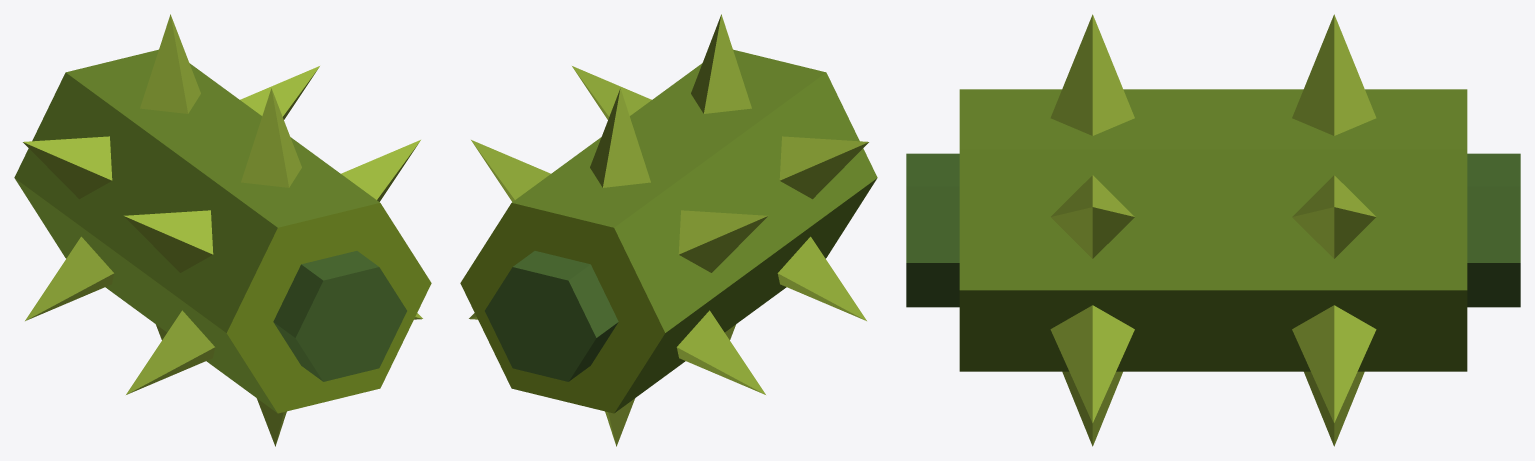
The model's file is cylinderSpikes01.fbx.
The picture shows the model from 3 angles, left to right: view 1: azimuth 30°, elevation 25°; view 2: azimuth 150°, elevation 25°; view 3: azimuth 270°, elevation 25°; orthographic projection. The views are drawn at different scales.
Parts seen in each view (by area): view 1: Mesh_SpikesCylinder; view 2: Mesh_SpikesCylinder; view 3: Mesh_SpikesCylinder.
Boxes of the visible parts, left/top/right/bottom form: Mesh_SpikesCylinder: left=14, top=14, right=431, bottom=446; Mesh_SpikesCylinder: left=460, top=14, right=877, bottom=446; Mesh_SpikesCylinder: left=906, top=14, right=1520, bottom=446.
Bounding box in the file's own units: 1.37 × 2.04 × 1.57.
